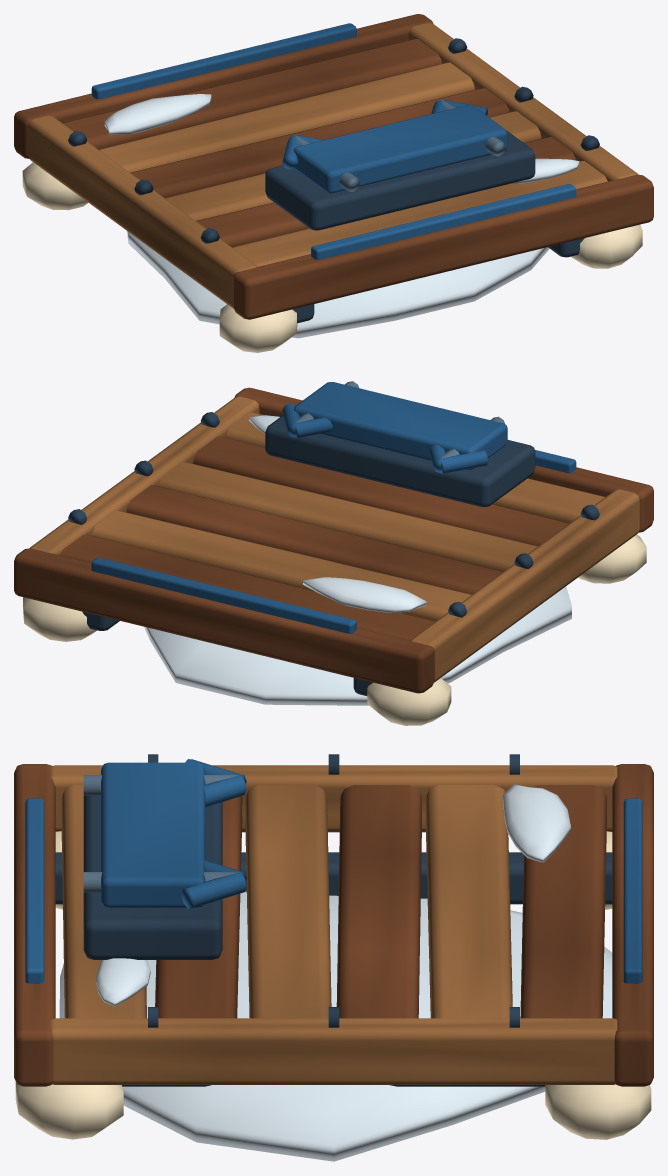
Rendered from pad_output.glb.
3 renders of one model, top to bottom at view 1: azimuth 30°, elevation 25°; view 2: azimuth 150°, elevation 25°; view 3: azimuth 270°, elevation 25°, orthographic. The views are drawn at different scales.
Visible parts, largest first — view 1: pad_output; view 2: pad_output; view 3: pad_output.
Part boxes in pixels (left/top/right/bottom): pad_output: left=14, top=14, right=653, bottom=352; pad_output: left=14, top=381, right=653, bottom=725; pad_output: left=14, top=754, right=653, bottom=1161.
Size of the model in its own units: 1.91 by 0.6755 by 1.84.
